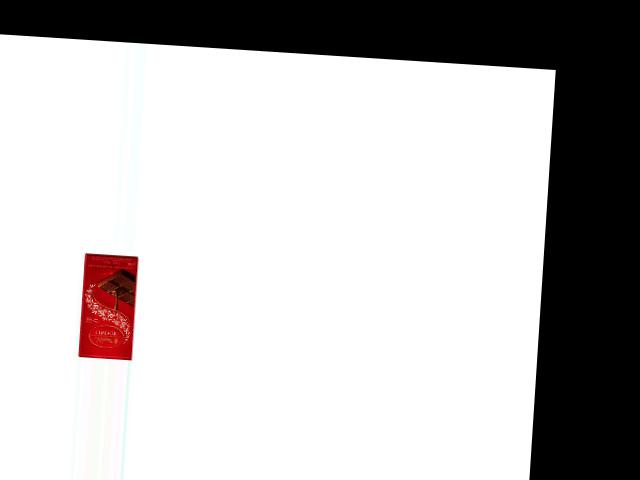chocolate: (76, 254, 143, 360)
